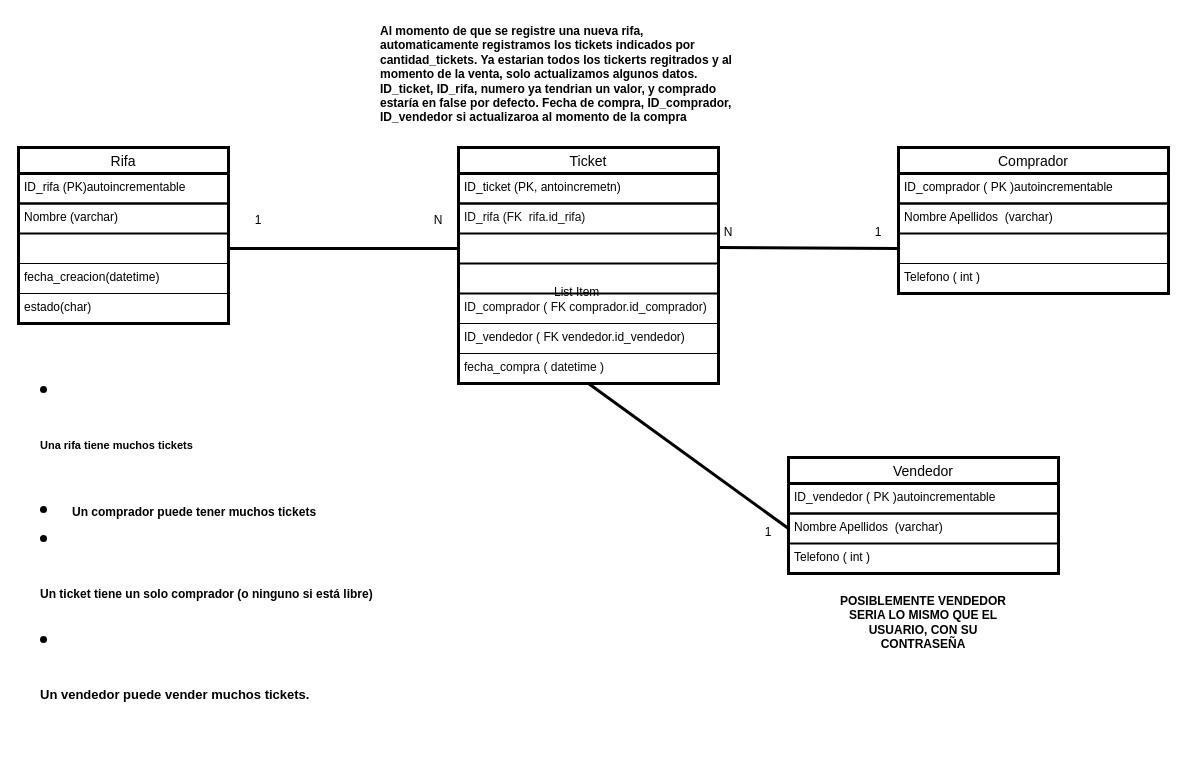
Some shapes in this 1187 by 757 pixel diagram are drawn without their labels. Each missing label, with the box of its shape:
cantidad_tickets (int): (18, 232, 228, 264)
Cedula ( int ): (898, 232, 1168, 264)
comprado ( boolean ): (457, 262, 719, 294)
Numero ( int ): (458, 232, 718, 264)
